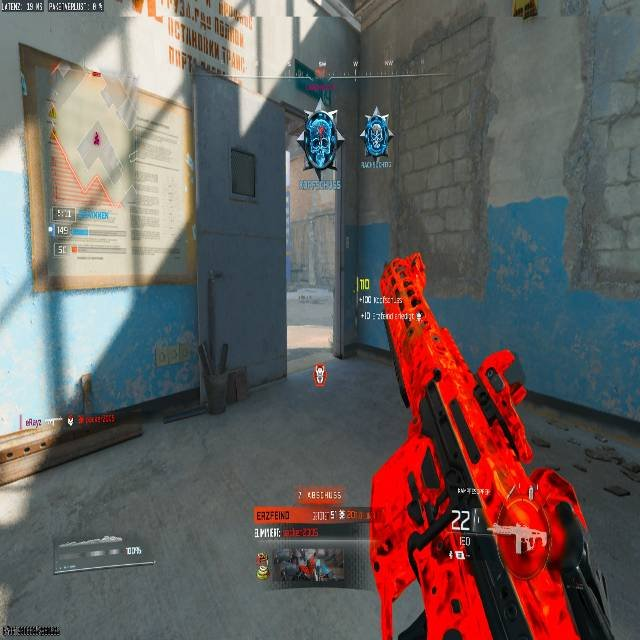player: (294, 94, 343, 180), (360, 106, 392, 164)
